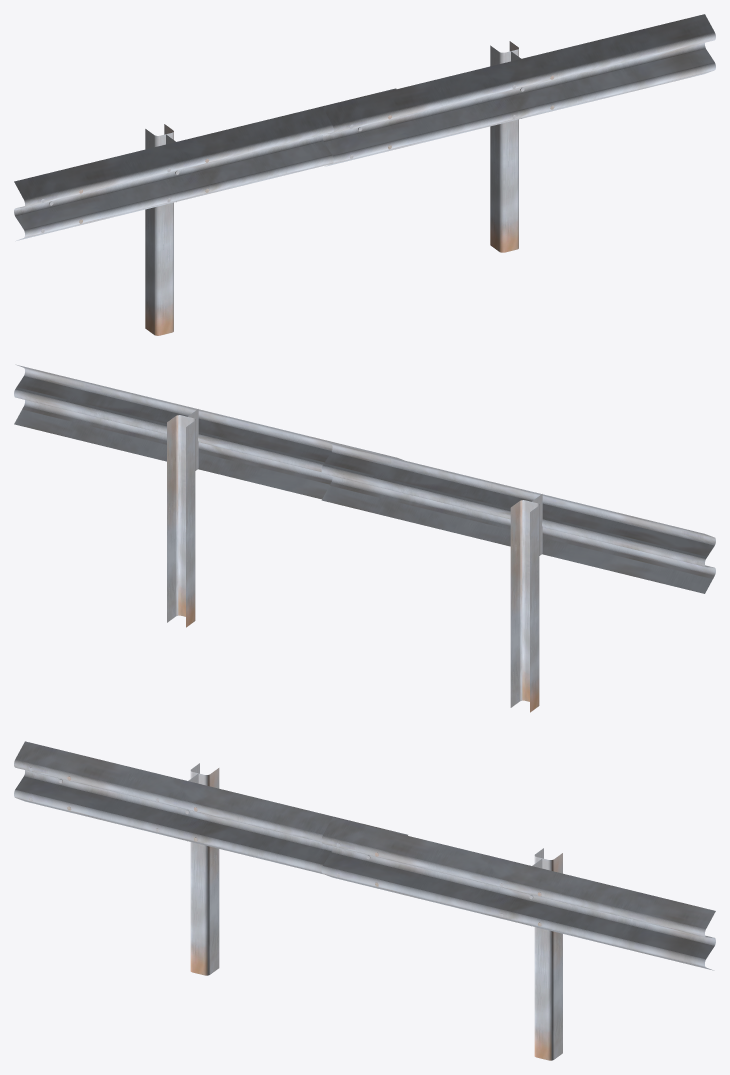
The model's file is guard_rail.obj.
3 views of the same model, one above another, from view 1: azimuth 30°, elevation 25°; view 2: azimuth 150°, elevation 25°; view 3: azimuth 330°, elevation 25° (orthographic).
Parts seen in each view (by area): view 1: obj3, obj1; view 2: obj3, obj1; view 3: obj3, obj1.
Part boxes in pixels (x1,y1,x2,y2): obj3: (14, 14, 715, 241); obj1: (145, 41, 554, 335); obj3: (14, 364, 715, 593); obj1: (167, 409, 542, 712); obj3: (14, 741, 715, 970); obj1: (155, 763, 562, 1060).
Size of the model in its own units: 142 by 39.37 by 12.2.
